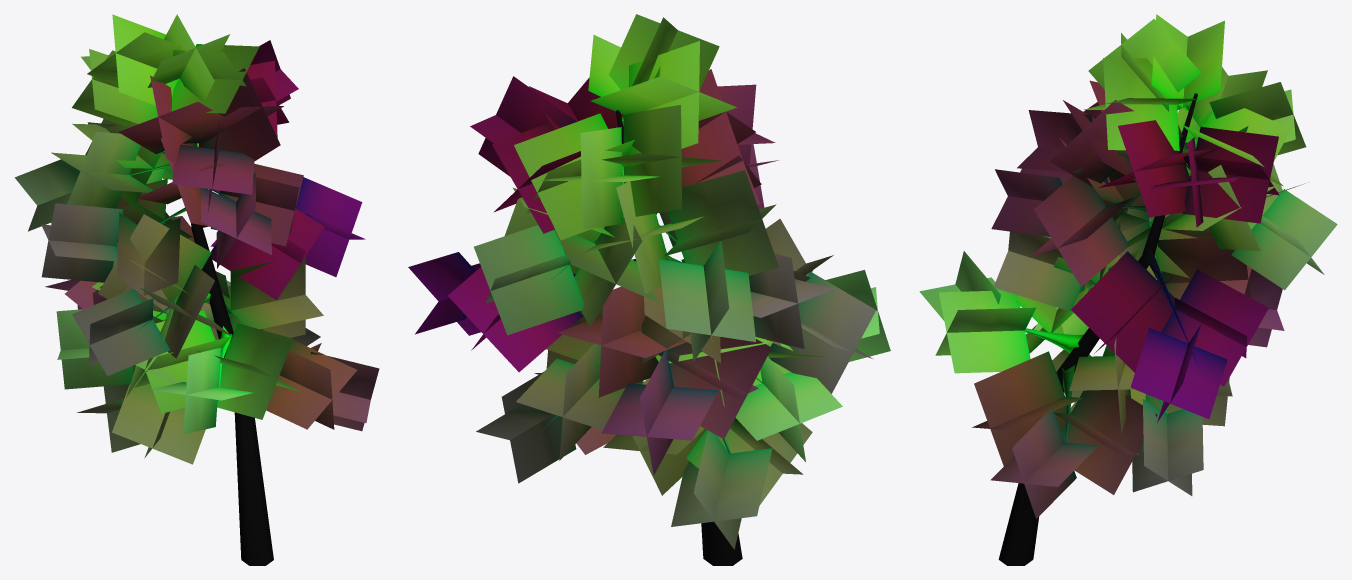
Rendered from URP_P7_Tree_1_LOD_3.fbx.
3 views of the same model, side by side, from view 1: azimuth 30°, elevation 25°; view 2: azimuth 150°, elevation 25°; view 3: azimuth 270°, elevation 25° (orthographic). The views are drawn at different scales.
Visible parts, largest first — view 1: Tree_1_LOD_3; view 2: Tree_1_LOD_3; view 3: Tree_1_LOD_3.
Part boxes in pixels (x1=…): Tree_1_LOD_3: x1=14, y1=14, x2=379, y2=565; Tree_1_LOD_3: x1=408, y1=14, x2=890, y2=565; Tree_1_LOD_3: x1=919, y1=14, x2=1337, y2=565.
Size of the model in its own units: 282 by 406 by 289.
